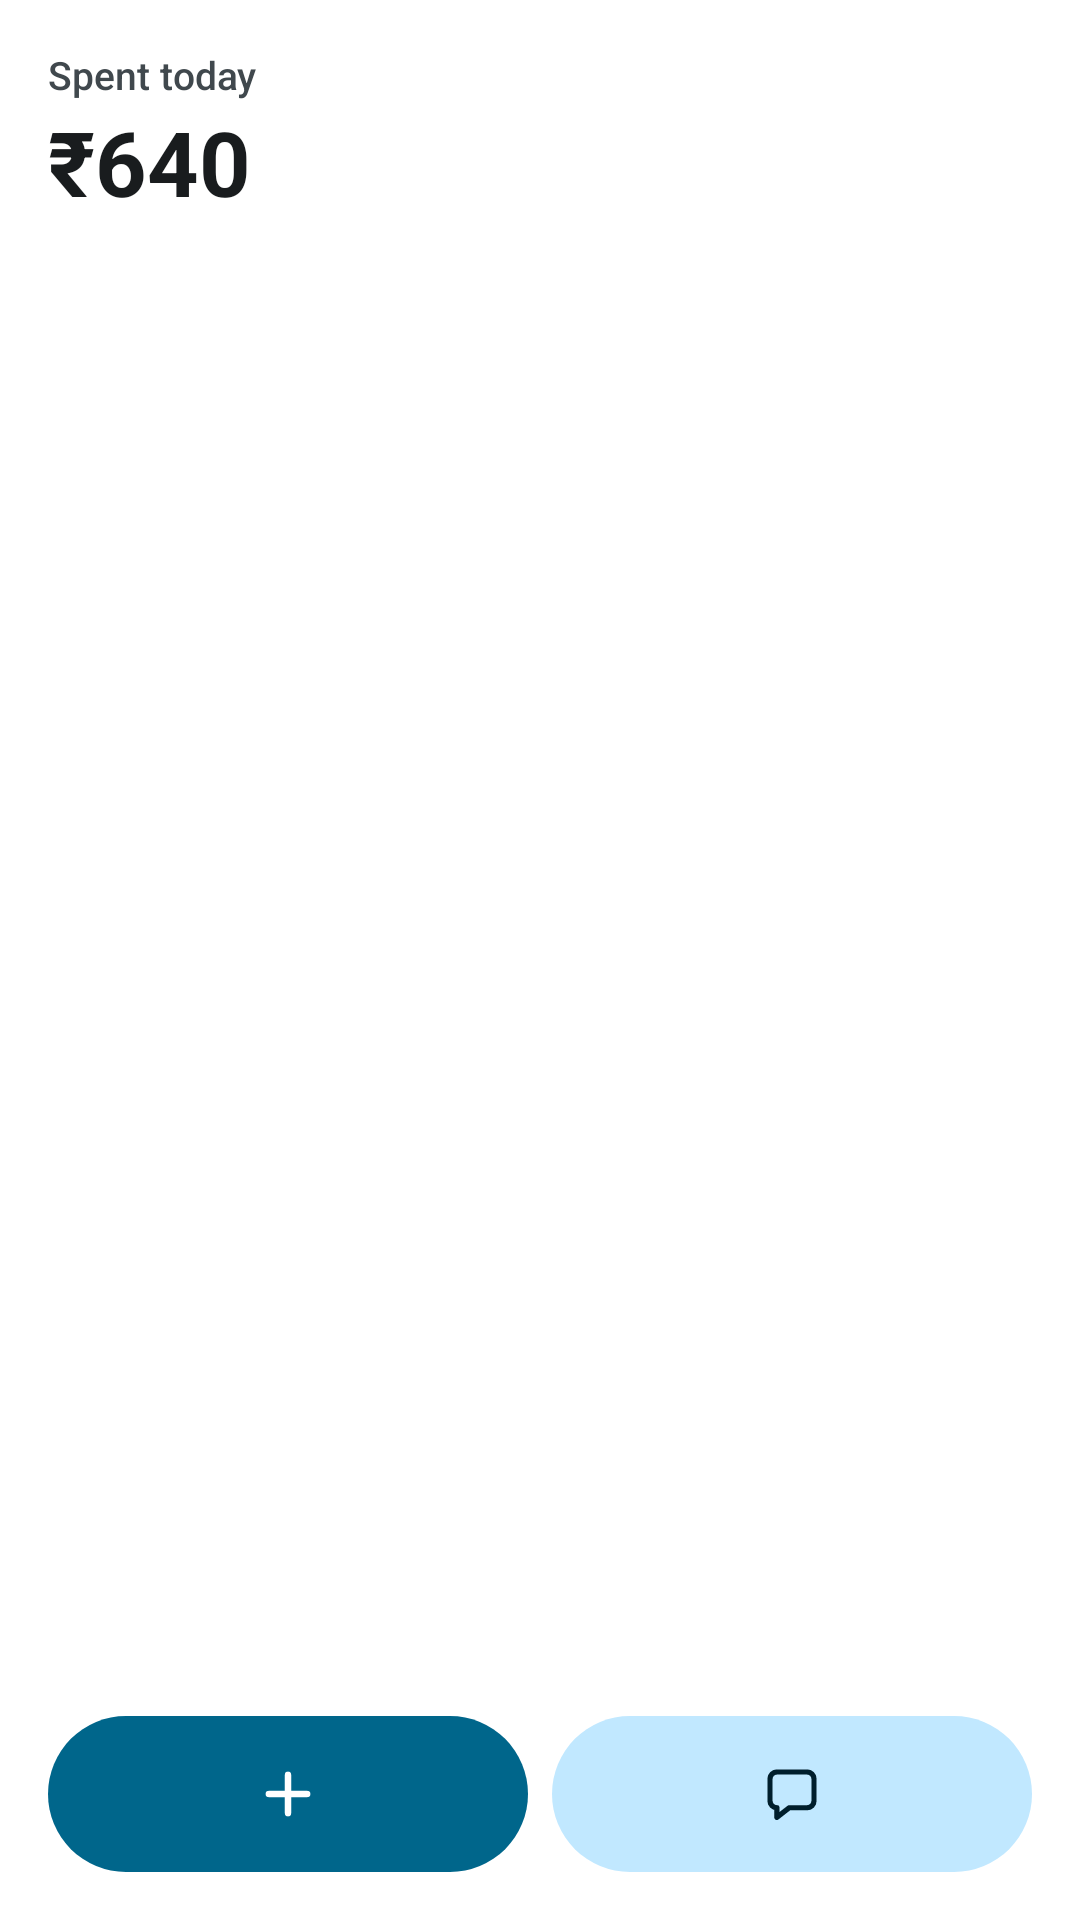

Where icons sit on this 1080 x 1920 app screen, as box(x1, y1, x2, y2):
chat: box(767, 1769, 817, 1820)
plus: box(265, 1771, 311, 1817)
